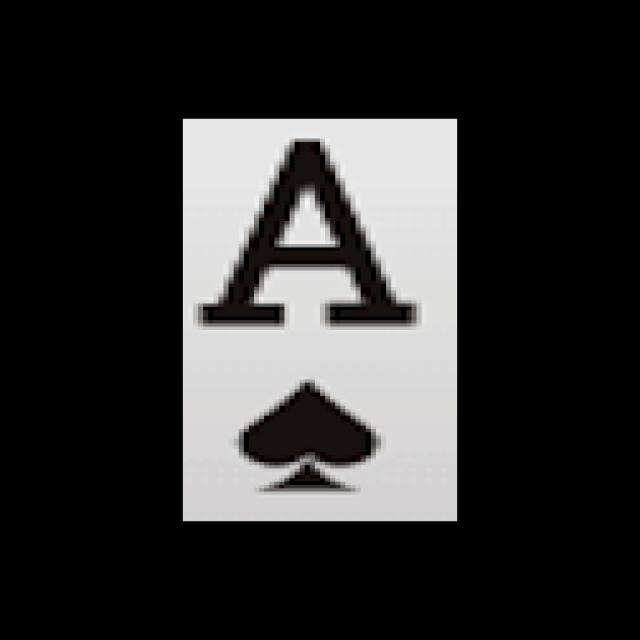AS: (198, 125, 428, 502)
